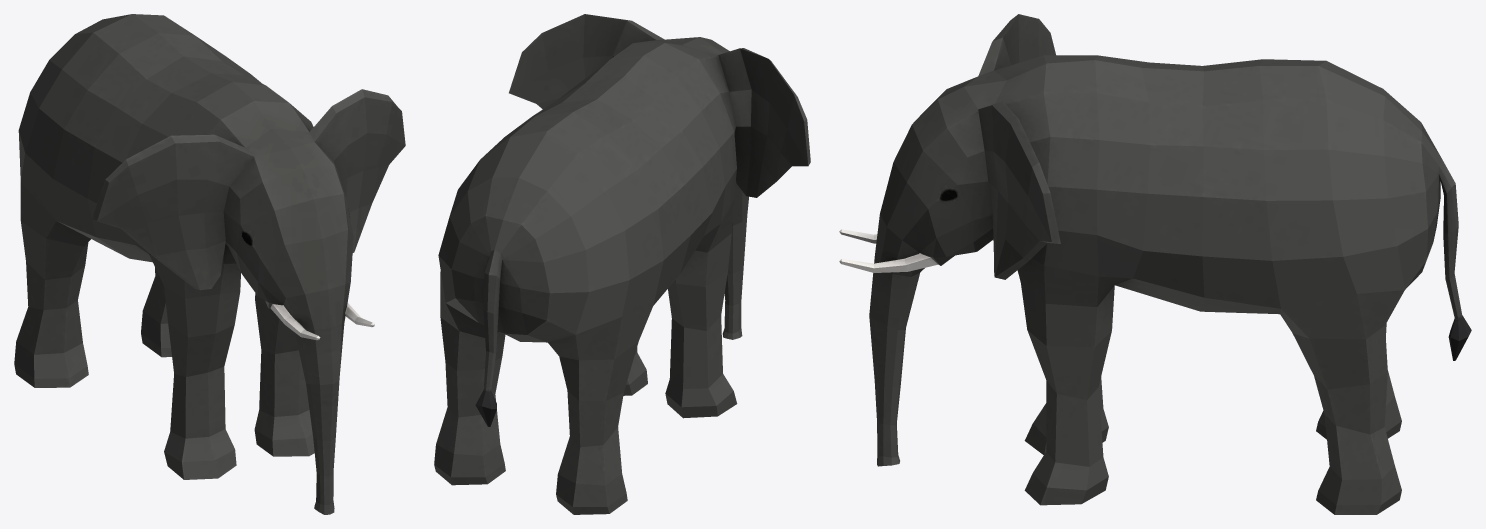
The model's file is elephant.glb.
3 views of the same model, side by side, from view 1: azimuth 30°, elevation 25°; view 2: azimuth 150°, elevation 25°; view 3: azimuth 270°, elevation 25° (orthographic). The views are drawn at different scales.
Parts seen in each view (by area): view 1: Elephant_Mesh; view 2: Elephant_Mesh; view 3: Elephant_Mesh.
Boxes of the visible parts, x1=… form: Elephant_Mesh: x1=14, y1=14, x2=405, y2=514; Elephant_Mesh: x1=434, y1=14, x2=810, y2=514; Elephant_Mesh: x1=839, y1=14, x2=1471, y2=514.
Bounding box in the file's own units: 7.45 × 8.29 × 11.72.
1 material, 1 textured.
